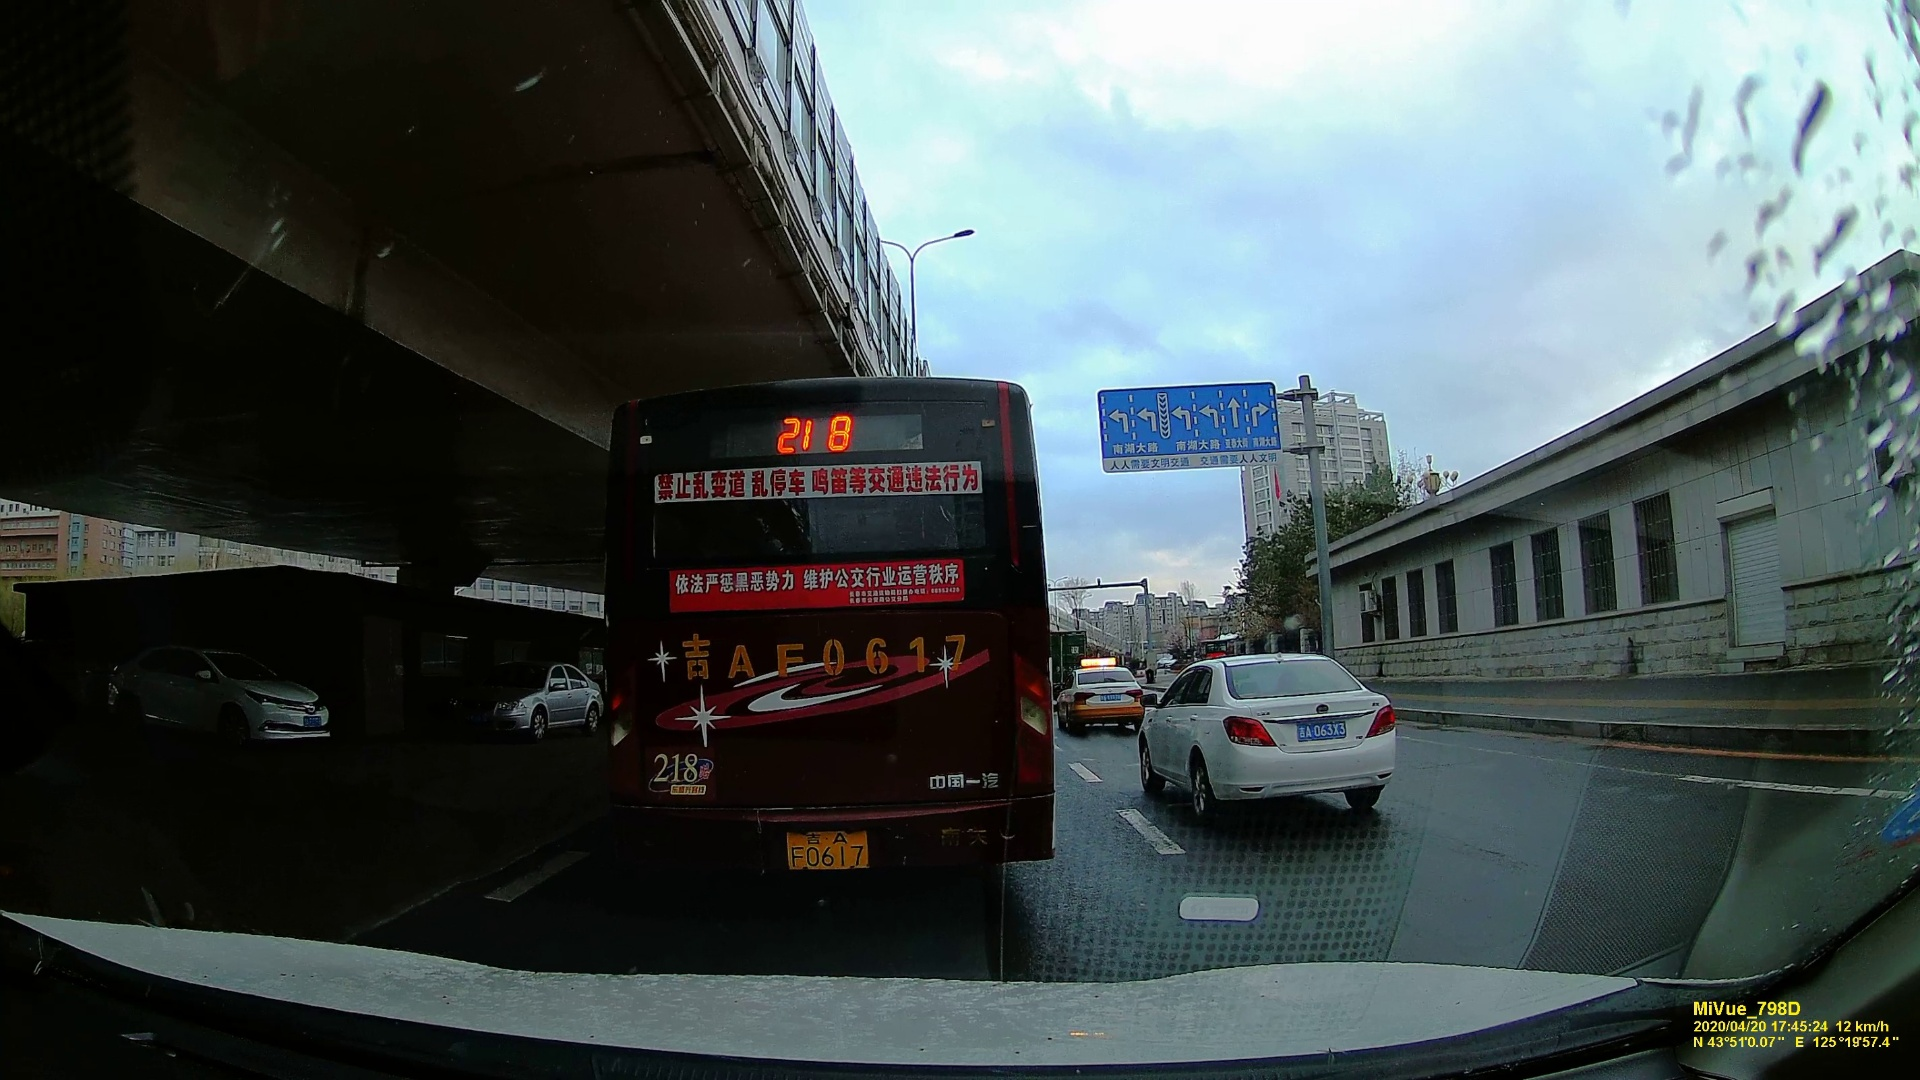bus: (611, 378, 1054, 891)
traffic_sign: (1095, 386, 1279, 465)
vehicle: (1135, 647, 1407, 818), (95, 640, 330, 749), (1063, 663, 1150, 735)
